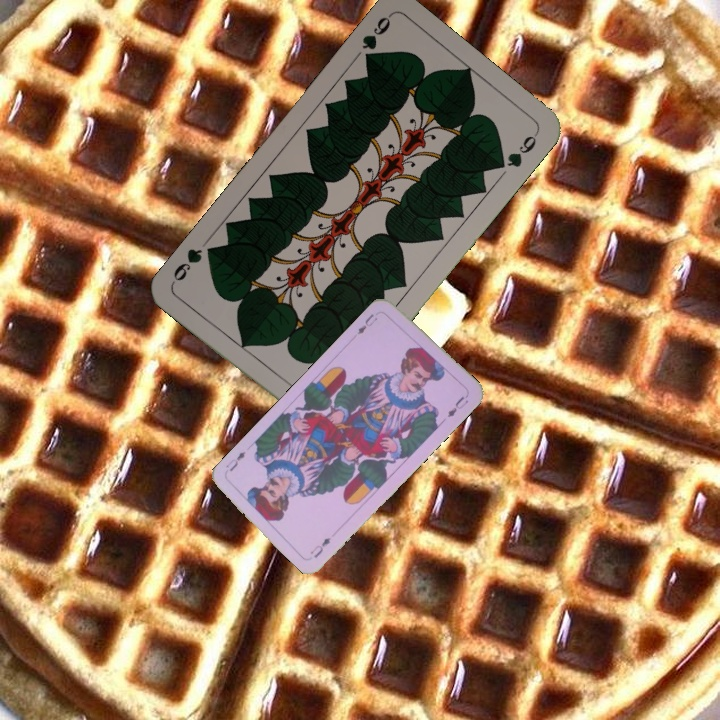EU: (306, 533, 333, 561), (354, 310, 380, 337)
G9: (357, 10, 393, 67)
